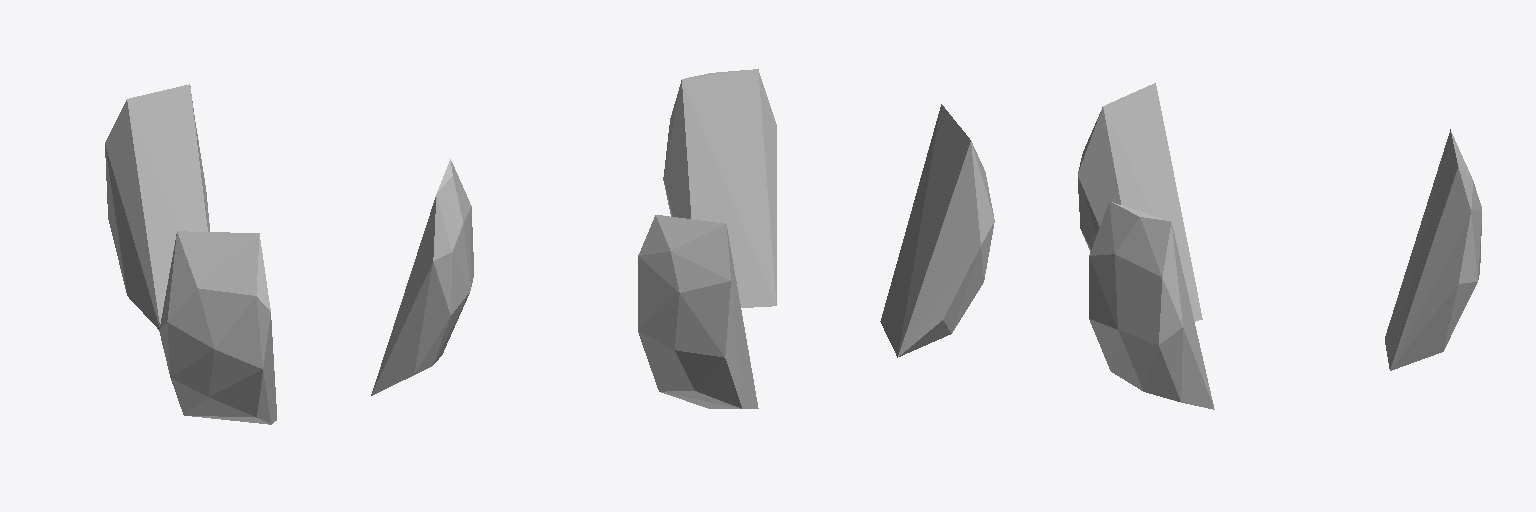
The model's file is englobingpen.obj.
3 renders of one model, left to right at view 1: azimuth 30°, elevation 25°; view 2: azimuth 150°, elevation 25°; view 3: azimuth 270°, elevation 25°, orthographic.
Parts seen in each view (by area): view 1: foo.012, foo.008, foo.014; view 2: foo.014, foo.008, foo.012; view 3: foo.014, foo.008, foo.012.
Boxes of the visible parts, x1=… form: foo.012: x1=159, y1=231, x2=276, y2=424; foo.008: x1=105, y1=84, x2=209, y2=329; foo.014: x1=371, y1=159, x2=473, y2=395; foo.014: x1=663, y1=69, x2=776, y2=307; foo.008: x1=638, y1=215, x2=758, y2=408; foo.012: x1=880, y1=104, x2=994, y2=357; foo.014: x1=1089, y1=201, x2=1214, y2=409; foo.008: x1=1385, y1=129, x2=1481, y2=370; foo.012: x1=1078, y1=83, x2=1202, y2=321.
Size of the model in its own units: 2.62 by 1.72 by 2.91.